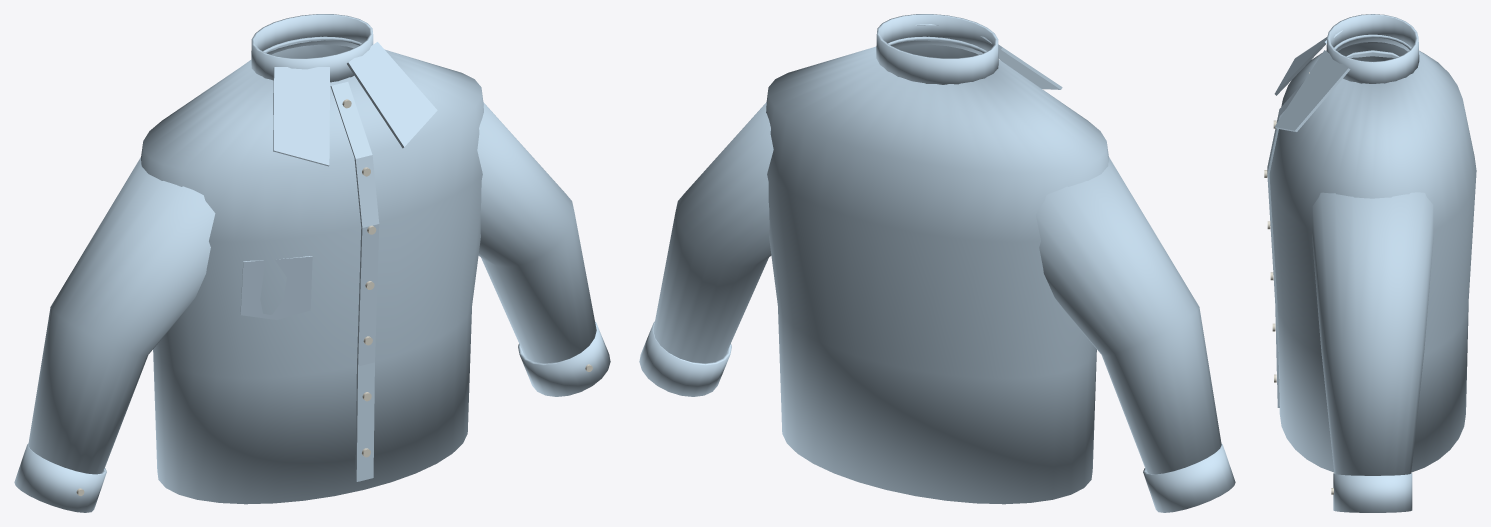
Rendered from shirt_classic_long_sleeve.glb.
The picture shows the model from 3 angles, left to right: view 1: azimuth 30°, elevation 25°; view 2: azimuth 150°, elevation 25°; view 3: azimuth 270°, elevation 25°; orthographic projection. The views are drawn at different scales.
Parts seen in each view (by area): view 1: Classic_Long_Sleeve_Shirt_Open_Body, Classic_Long_Sleeve_Shirt_Long_Sleeve, Classic_Long_Sleeve_Shirt_Long_Sleeve.001, Classic_Long_Sleeve_Shirt_Button_Placket, Classic_Long_Sleeve_Shirt_Pointed_Collar, Classic_Long_Sleeve_Shirt_Standing_Collar, Classic_Long_Sleeve_Shirt_Pointed_Collar.001, Classic_Long_Sleeve_Shirt_Cuff, Classic_Long_Sleeve_Shirt_Chest_Pocket, Classic_Long_Sleeve_Shirt_Cuff.001; view 2: Classic_Long_Sleeve_Shirt_Open_Body, Classic_Long_Sleeve_Shirt_Long_Sleeve, Classic_Long_Sleeve_Shirt_Long_Sleeve.001, Classic_Long_Sleeve_Shirt_Standing_Collar, Classic_Long_Sleeve_Shirt_Cuff, Classic_Long_Sleeve_Shirt_Cuff.001, Classic_Long_Sleeve_Shirt_Pointed_Collar; view 3: Classic_Long_Sleeve_Shirt_Open_Body, Classic_Long_Sleeve_Shirt_Long_Sleeve.001, Classic_Long_Sleeve_Shirt_Standing_Collar, Classic_Long_Sleeve_Shirt_Cuff.001, Classic_Long_Sleeve_Shirt_Pointed_Collar.001, Classic_Long_Sleeve_Shirt_Button_Placket, Classic_Long_Sleeve_Shirt_Pointed_Collar, Classic_Long_Sleeve_Shirt_Long_Sleeve.
Boxes of the visible parts, bbox=[...] form: Classic_Long_Sleeve_Shirt_Open_Body: bbox=[141, 36, 483, 504]; Classic_Long_Sleeve_Shirt_Long_Sleeve: bbox=[28, 157, 215, 474]; Classic_Long_Sleeve_Shirt_Long_Sleeve.001: bbox=[477, 102, 596, 363]; Classic_Long_Sleeve_Shirt_Button_Placket: bbox=[330, 82, 379, 481]; Classic_Long_Sleeve_Shirt_Pointed_Collar: bbox=[273, 67, 329, 166]; Classic_Long_Sleeve_Shirt_Standing_Collar: bbox=[251, 14, 373, 82]; Classic_Long_Sleeve_Shirt_Pointed_Collar.001: bbox=[347, 42, 437, 148]; Classic_Long_Sleeve_Shirt_Cuff: bbox=[14, 443, 106, 512]; Classic_Long_Sleeve_Shirt_Chest_Pocket: bbox=[240, 256, 312, 319]; Classic_Long_Sleeve_Shirt_Cuff.001: bbox=[518, 321, 610, 396]; Classic_Long_Sleeve_Shirt_Open_Body: bbox=[766, 36, 1108, 504]; Classic_Long_Sleeve_Shirt_Long_Sleeve: bbox=[1036, 157, 1221, 474]; Classic_Long_Sleeve_Shirt_Long_Sleeve.001: bbox=[653, 102, 773, 363]; Classic_Long_Sleeve_Shirt_Standing_Collar: bbox=[876, 14, 998, 84]; Classic_Long_Sleeve_Shirt_Cuff: bbox=[1143, 443, 1235, 512]; Classic_Long_Sleeve_Shirt_Cuff.001: bbox=[639, 321, 731, 396]; Classic_Long_Sleeve_Shirt_Pointed_Collar: bbox=[980, 36, 1062, 89]; Classic_Long_Sleeve_Shirt_Open_Body: bbox=[1269, 34, 1476, 472]; Classic_Long_Sleeve_Shirt_Long_Sleeve.001: bbox=[1312, 192, 1433, 475]; Classic_Long_Sleeve_Shirt_Standing_Collar: bbox=[1326, 14, 1419, 83]; Classic_Long_Sleeve_Shirt_Cuff.001: bbox=[1333, 473, 1412, 512]; Classic_Long_Sleeve_Shirt_Pointed_Collar.001: bbox=[1275, 50, 1350, 131]; Classic_Long_Sleeve_Shirt_Button_Placket: bbox=[1267, 82, 1303, 407]; Classic_Long_Sleeve_Shirt_Pointed_Collar: bbox=[1274, 30, 1342, 95]; Classic_Long_Sleeve_Shirt_Long_Sleeve: bbox=[1346, 50, 1399, 58].
Bounding box in the file's own units: 0.8629 × 0.5871 × 0.3007.
